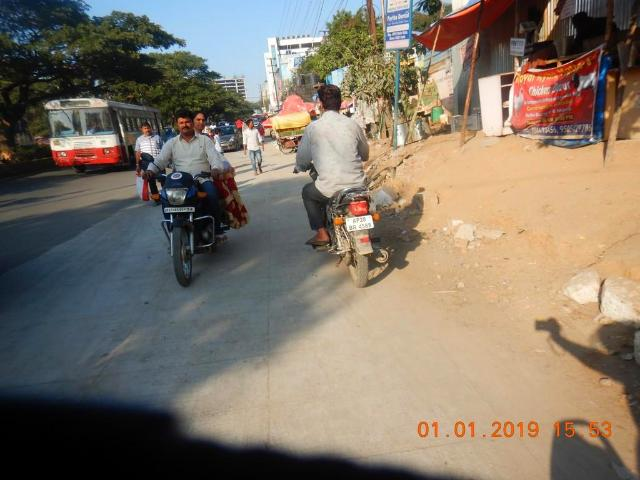motor: (143, 171, 229, 288), (329, 189, 389, 289)
non-helm: (318, 85, 342, 113), (176, 111, 195, 136), (194, 111, 208, 132)
